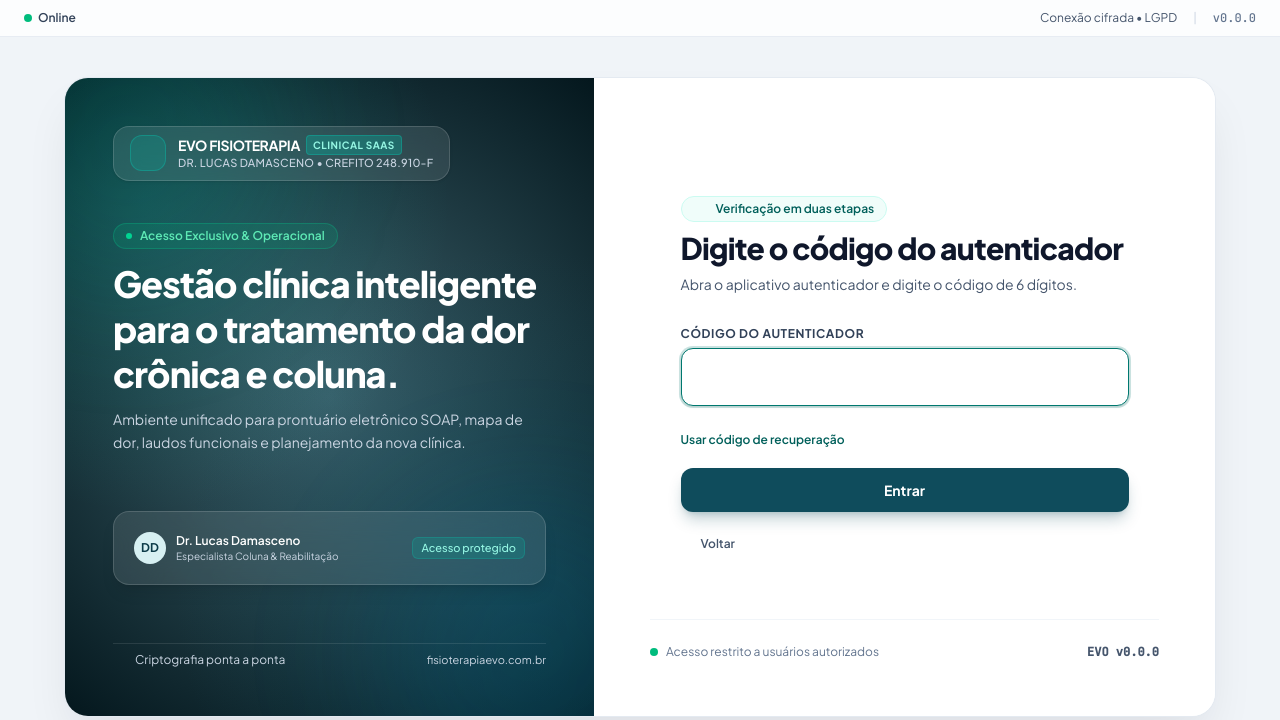
Test case: MfaVerificarTela › mostra o toast com os códigos restantes quando usou um código de recuperação
This screenshot has width=1280, height=720.
Click the button "Usar código de recuperação" at (763, 440), box x1=680 y1=432 x2=845 y2=448
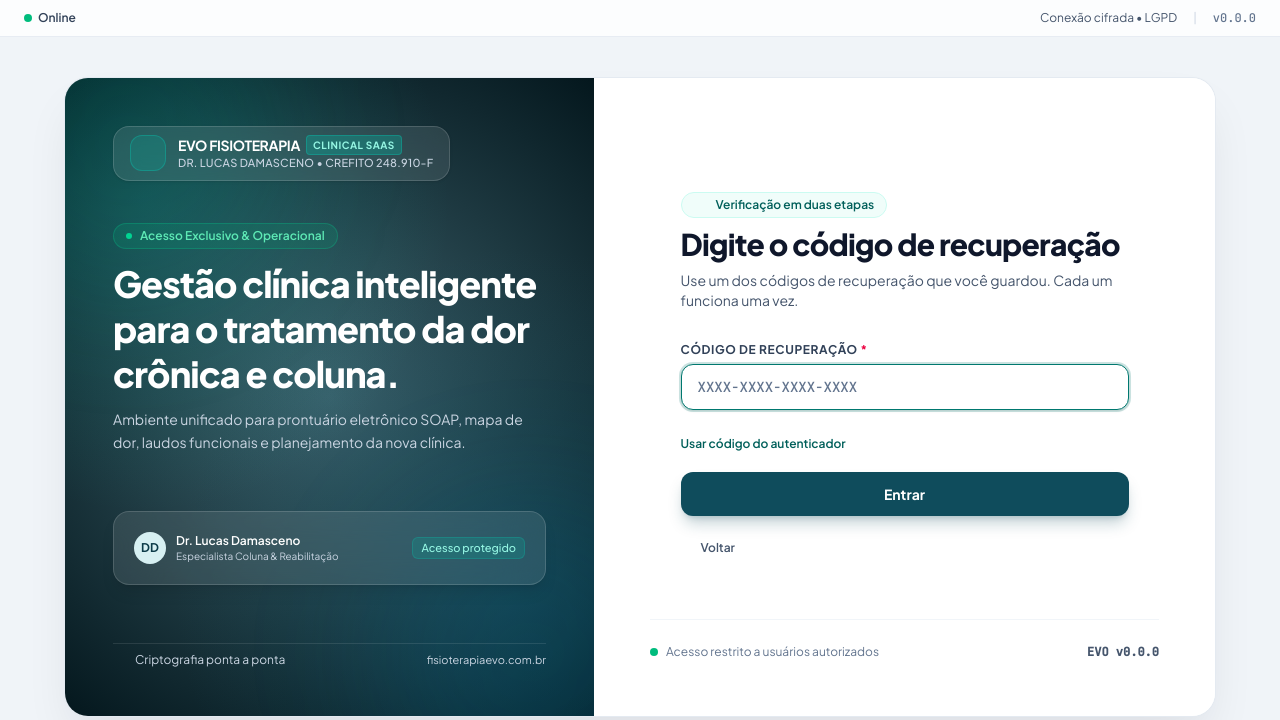
Type "ABCD-EFGH-JKMN-PQRS" into the field labelled "Código de recuperação *" at (904, 387), box x1=680 y1=364 x2=1128 y2=410
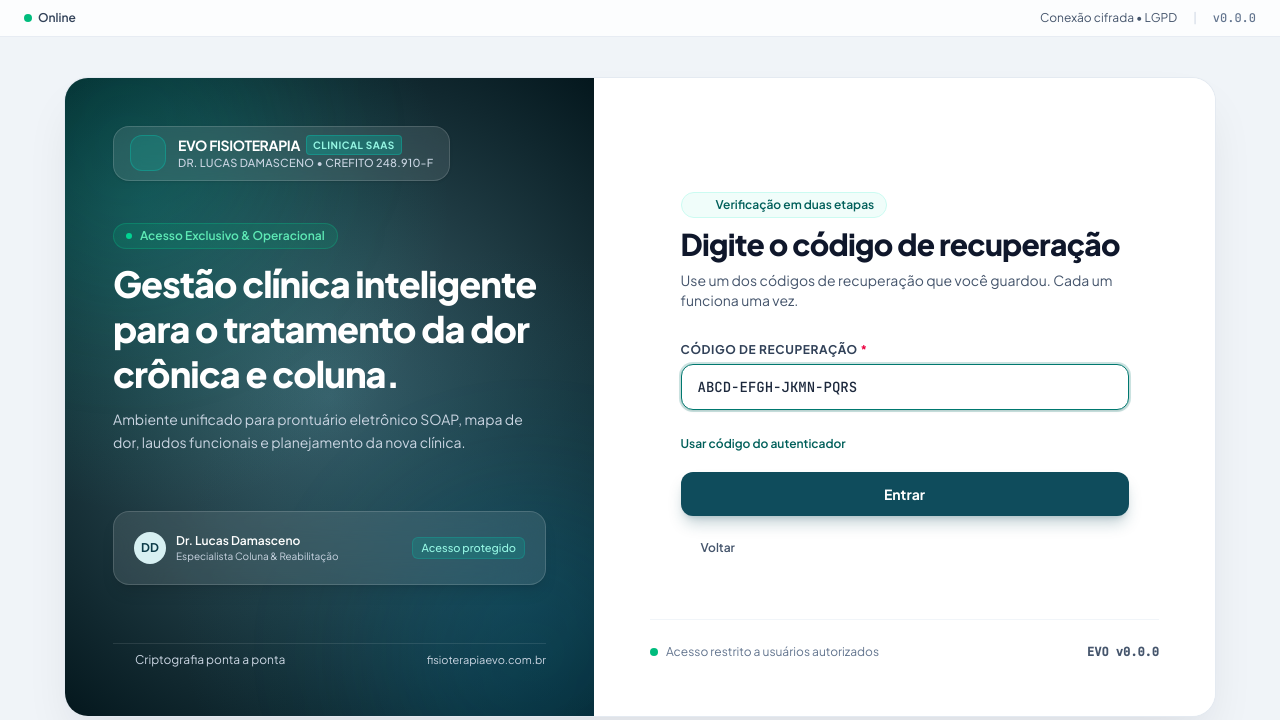
Click the button "Entrar" at (904, 494), box x1=680 y1=472 x2=1128 y2=516
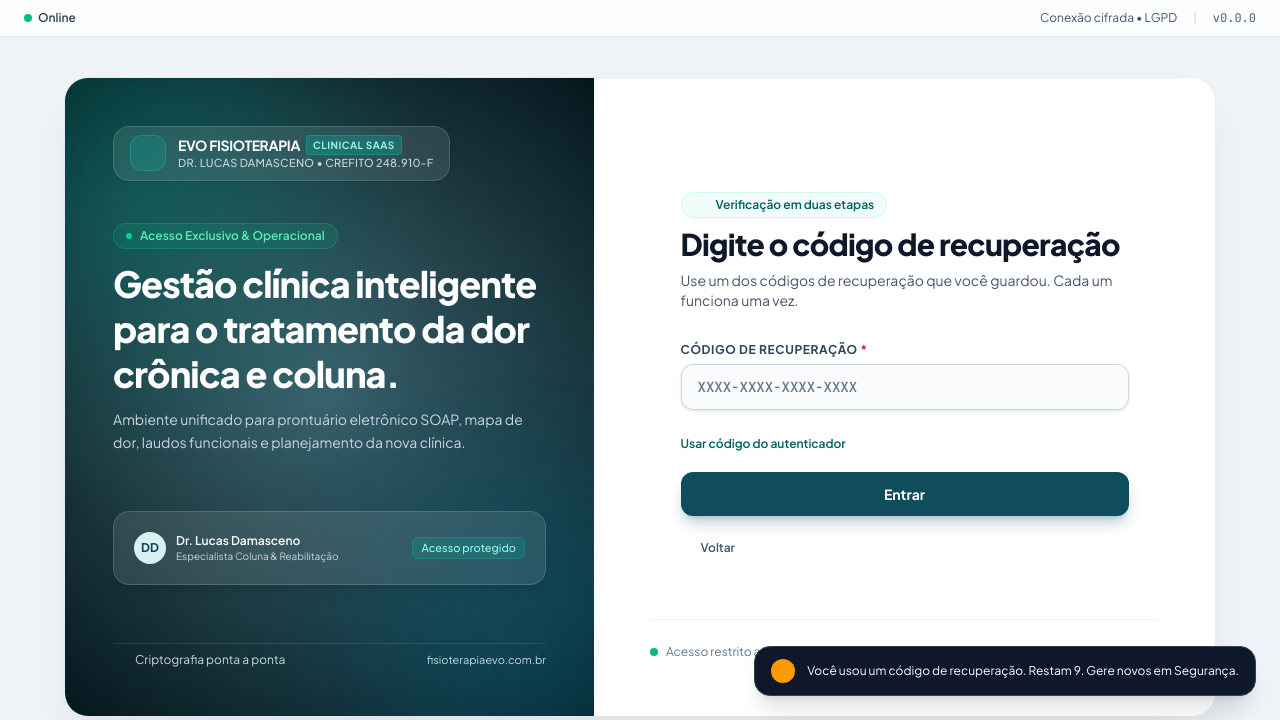
Now the text "Você usou um código de recuperação. Restam 9. Gere novos em Segurança." is shown, box x1=807 y1=663 x2=1239 y2=679
